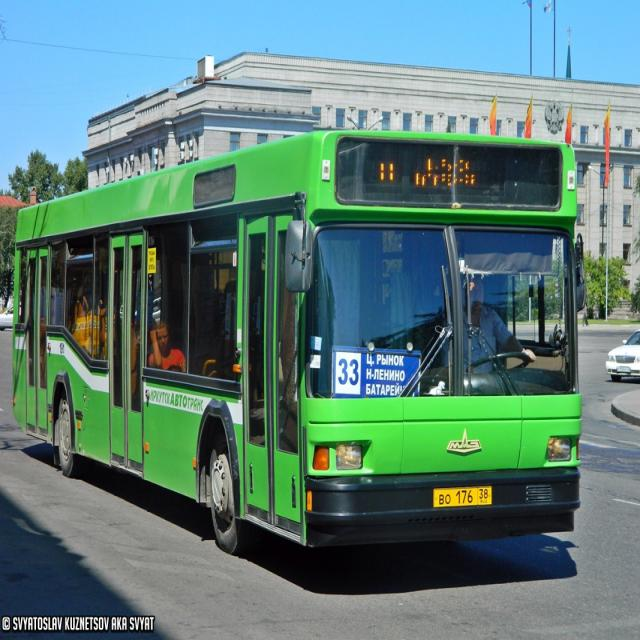number-of-bus: (337, 356, 362, 389)
